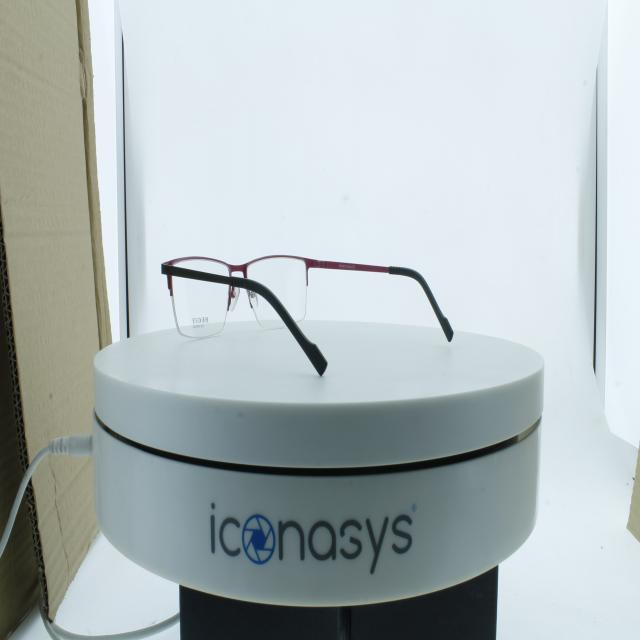Specs: (146, 202, 473, 380)
